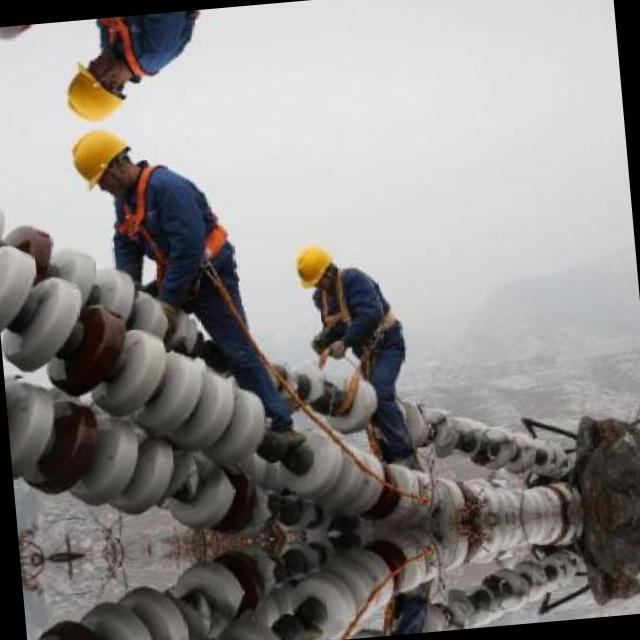helmet: (58, 121, 150, 202), (52, 48, 144, 128), (290, 235, 338, 298)
